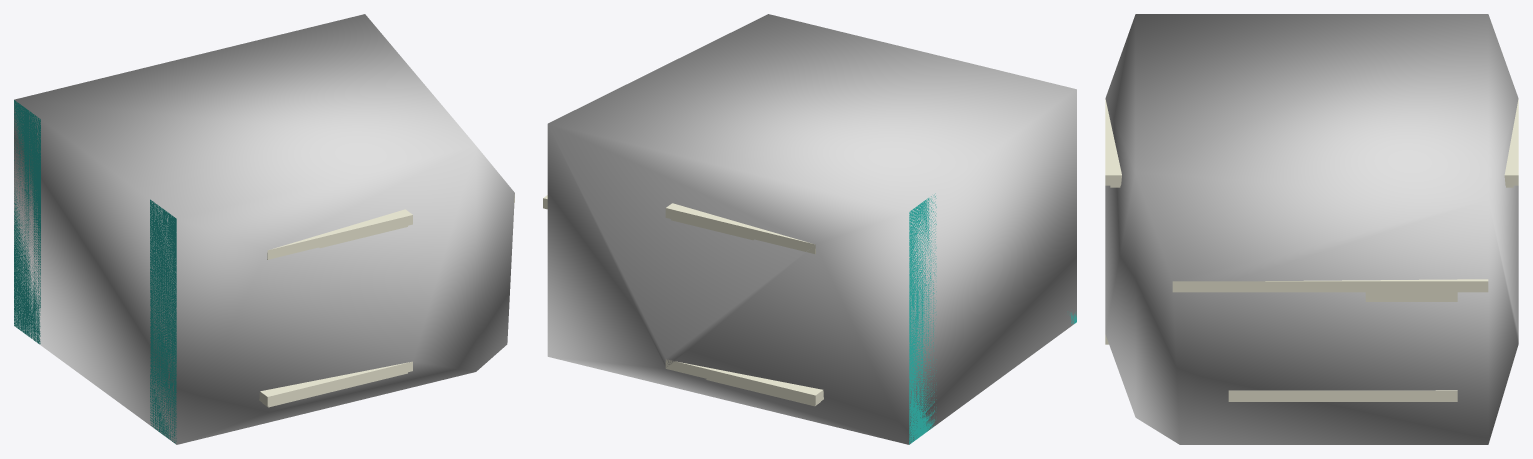
The picture shows the model from 3 angles, left to right: view 1: azimuth 30°, elevation 25°; view 2: azimuth 150°, elevation 25°; view 3: azimuth 270°, elevation 25°; orthographic projection. The views are drawn at different scales.
Visible parts, largest first — view 1: struct_city_block_tall_tier1_b_01_col, struct_city_block_tall_tier1_b_01; view 2: struct_city_block_tall_tier1_b_01_col, struct_city_block_tall_tier1_b_01; view 3: struct_city_block_tall_tier1_b_01_col, struct_city_block_tall_tier1_b_01.
Part boxes in pixels (x1,y1,x2,y2): struct_city_block_tall_tier1_b_01_col: (14, 14, 514, 444); struct_city_block_tall_tier1_b_01: (14, 100, 514, 443); struct_city_block_tall_tier1_b_01_col: (547, 14, 1076, 444); struct_city_block_tall_tier1_b_01: (543, 193, 1076, 444); struct_city_block_tall_tier1_b_01_col: (1105, 14, 1518, 444); struct_city_block_tall_tier1_b_01: (1105, 99, 1518, 401).
Size of the model in its own units: 9.13 by 5.55 by 8.48.
Materials: 1 (1 with a texture image).
